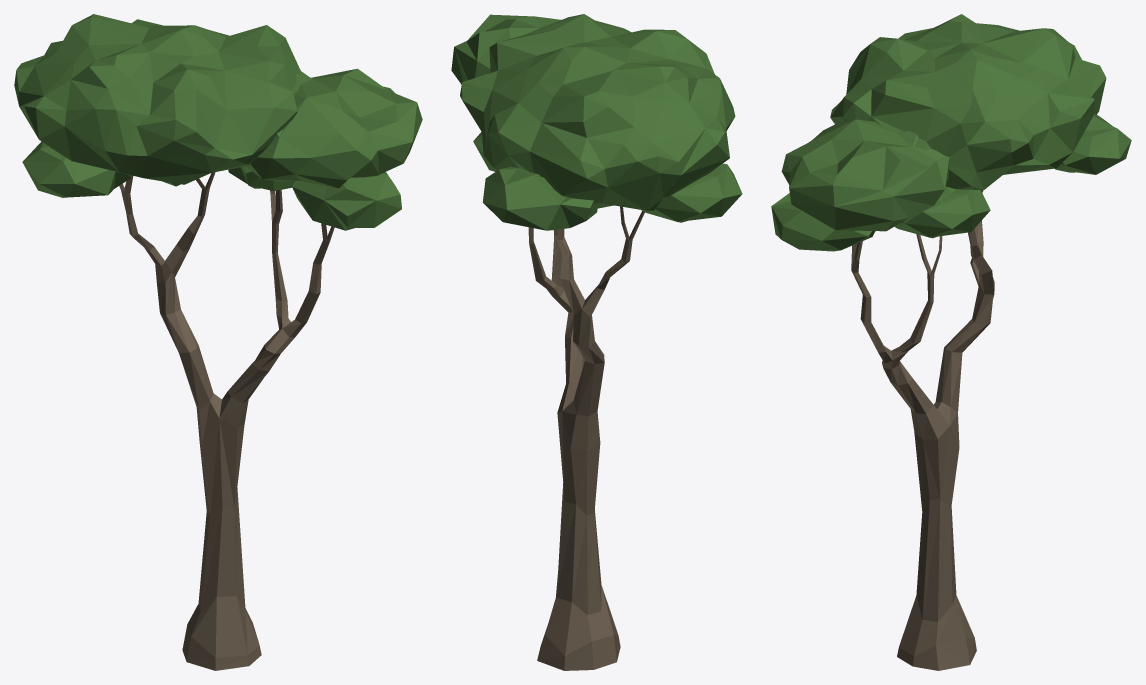
The model's file is SM_Env_Tree_Large_02.glb.
3 views of the same model, side by side, from view 1: azimuth 30°, elevation 25°; view 2: azimuth 150°, elevation 25°; view 3: azimuth 270°, elevation 25° (orthographic). The views are drawn at different scales.
Visible parts, largest first — view 1: SM_Env_Tree_Large_02_part00; view 2: SM_Env_Tree_Large_02_part00; view 3: SM_Env_Tree_Large_02_part00.
Part boxes in pixels (x1,y1,x2,y2): SM_Env_Tree_Large_02_part00: (14, 14, 422, 670); SM_Env_Tree_Large_02_part00: (451, 14, 742, 670); SM_Env_Tree_Large_02_part00: (771, 14, 1131, 670).
Size of the model in its own units: 10.17 by 18.7 by 10.3.
Materials: 1 (1 with a texture image).
